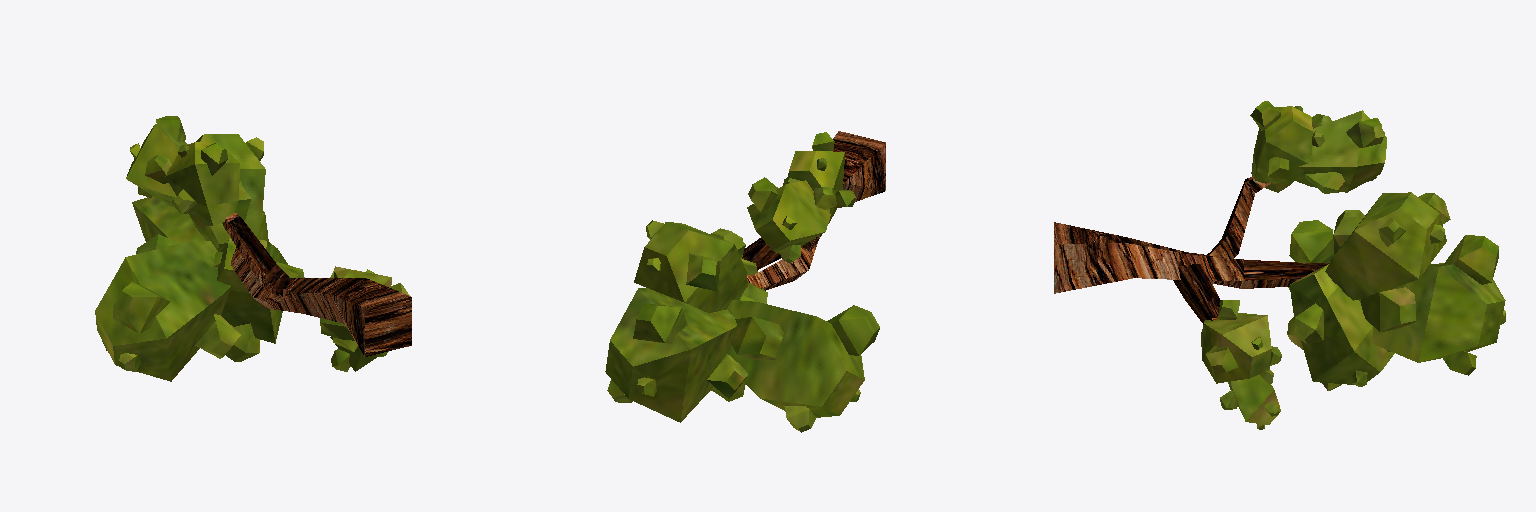
The picture shows the model from 3 angles: view 1: azimuth 30°, elevation 25°; view 2: azimuth 150°, elevation 25°; view 3: azimuth 270°, elevation 25°; orthographic projection.
Visible parts, largest first — view 1: Tree.002; view 2: Tree.002; view 3: Tree.002.
Part boxes in pixels (x1,y1,x2,y2): Tree.002: (95, 116, 411, 381); Tree.002: (605, 131, 885, 432); Tree.002: (1054, 101, 1505, 429).
Size of the model in its own units: 106 by 106 by 167.
Materials: 4 (2 with a texture image).